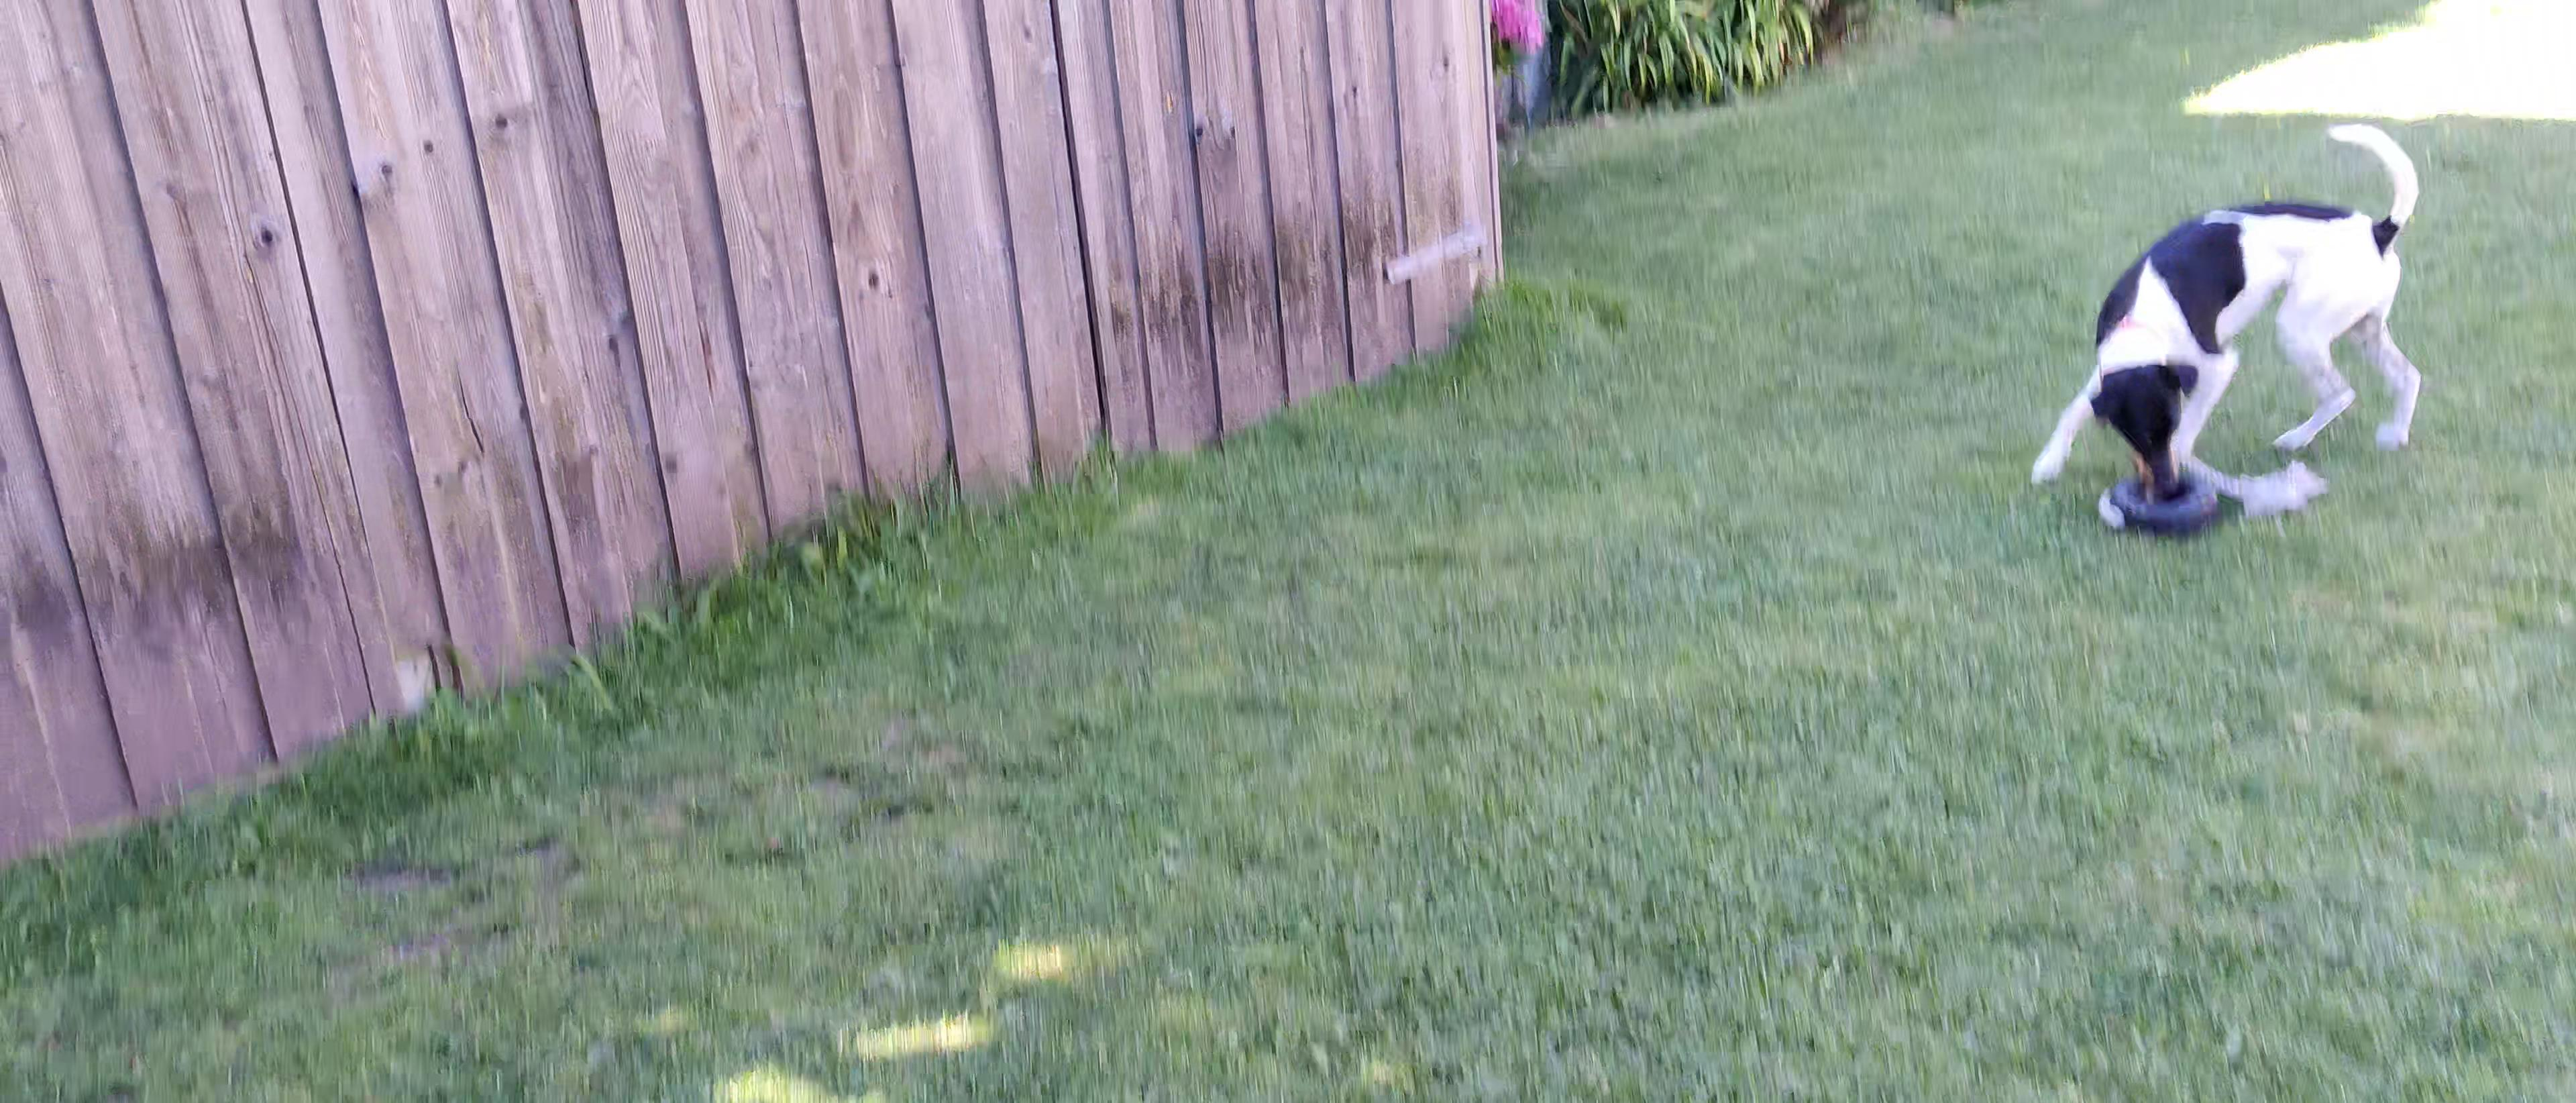Dog: (2016, 112, 2426, 496)
